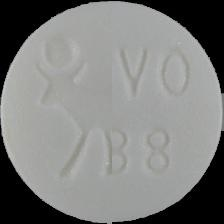69238-1251: (0, 0, 224, 224)
